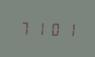one: (32, 19, 45, 36), (60, 20, 73, 37)
seven: (18, 18, 31, 36)
zero: (46, 19, 59, 37)
